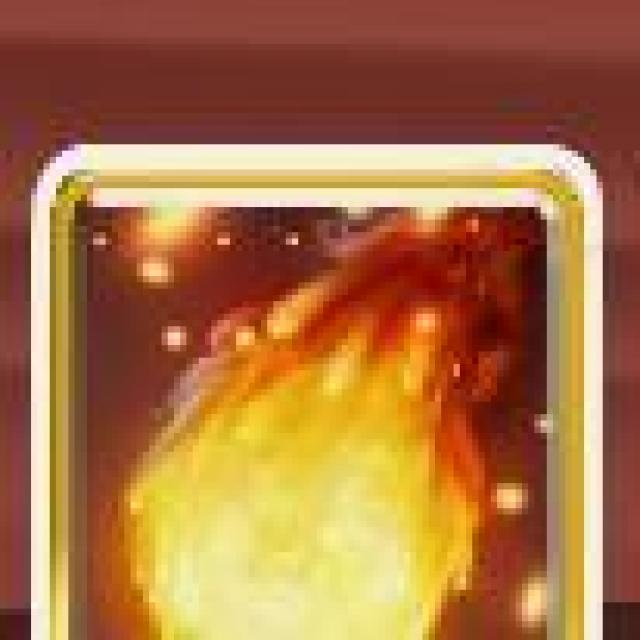Fireball: (26, 140, 607, 640)
